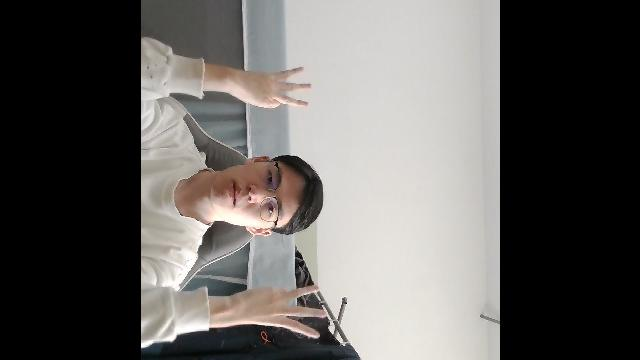three: (219, 281, 330, 337), (226, 63, 313, 112)
